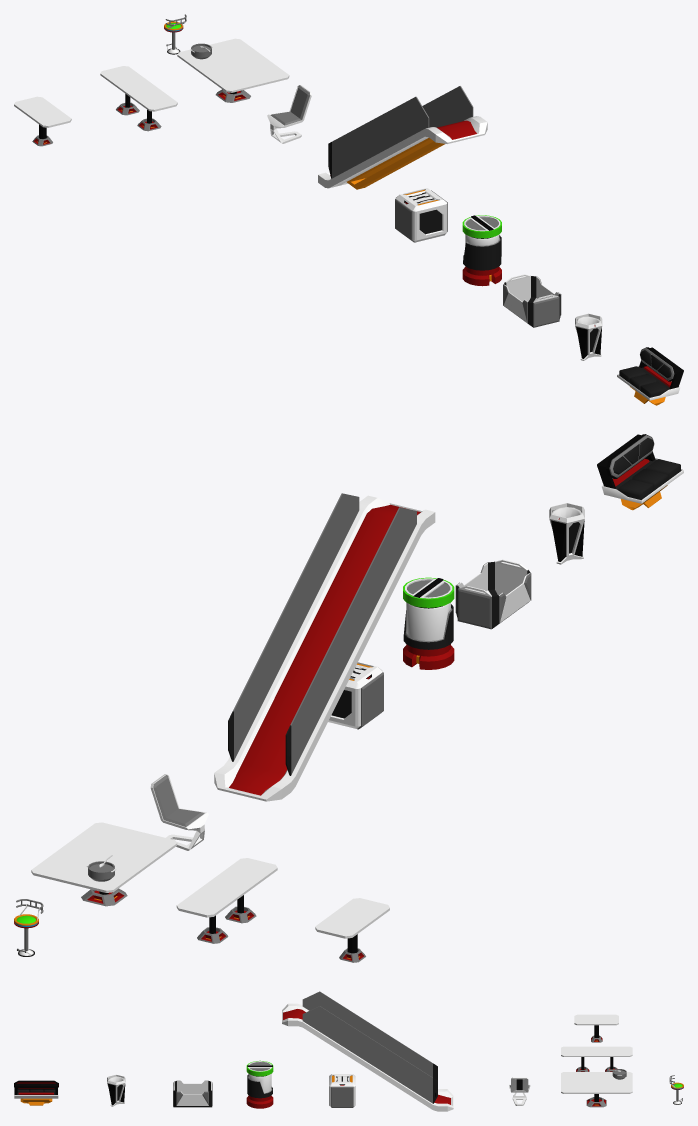
Rendered from CityInteriorProps00.fbx.
3 views of the same model, one above another, from view 1: azimuth 30°, elevation 25°; view 2: azimuth 150°, elevation 25°; view 3: azimuth 270°, elevation 25° (orthographic). The views are drawn at different scales.
Visible parts, largest first — view 1: Box021, Box017, Box025, Box024, Box022, Box019, Cylinder003, Box020, Box018, Cylinder008; view 2: Box021, Box017, Box025, Box024, Box019, Cylinder003, Box022, Box020, Box018, Cylinder008, Barrel00; view 3: Box021, Box017, Box024, Cylinder003, Box025, Box019, Box022, Box020, Cylinder008, Box018, Barrel00.
Boxes of the visible parts, bbox=[...] form: Box021: bbox=[318, 86, 487, 189]; Box017: bbox=[177, 38, 289, 102]; Box025: bbox=[617, 347, 683, 405]; Box024: bbox=[503, 274, 561, 327]; Box022: bbox=[395, 188, 447, 242]; Box019: bbox=[100, 66, 177, 131]; Cylinder003: bbox=[462, 215, 501, 286]; Box020: bbox=[14, 96, 71, 146]; Box018: bbox=[267, 85, 311, 143]; Cylinder008: bbox=[575, 313, 602, 360]; Box021: bbox=[214, 493, 435, 801]; Box017: bbox=[31, 822, 177, 906]; Box025: bbox=[597, 434, 683, 510]; Box024: bbox=[455, 559, 531, 629]; Box019: bbox=[176, 858, 277, 943]; Cylinder003: bbox=[403, 577, 454, 669]; Box022: bbox=[328, 662, 383, 729]; Box020: bbox=[315, 898, 389, 962]; Box018: bbox=[150, 774, 208, 850]; Cylinder008: bbox=[549, 503, 584, 564]; Barrel00: bbox=[405, 578, 452, 598]; Box021: bbox=[282, 991, 453, 1111]; Box017: bbox=[561, 1072, 632, 1107]; Box024: bbox=[173, 1080, 212, 1107]; Cylinder003: bbox=[246, 1060, 273, 1108]; Box025: bbox=[14, 1080, 58, 1105]; Box019: bbox=[561, 1046, 632, 1071]; Box022: bbox=[329, 1074, 355, 1107]; Box020: bbox=[574, 1014, 618, 1042]; Cylinder008: bbox=[107, 1074, 125, 1106]; Box018: bbox=[509, 1077, 530, 1105]; Barrel00: bbox=[247, 1061, 272, 1071].
Size of the model in its own units: 68.53 by 42.84 by 249.
